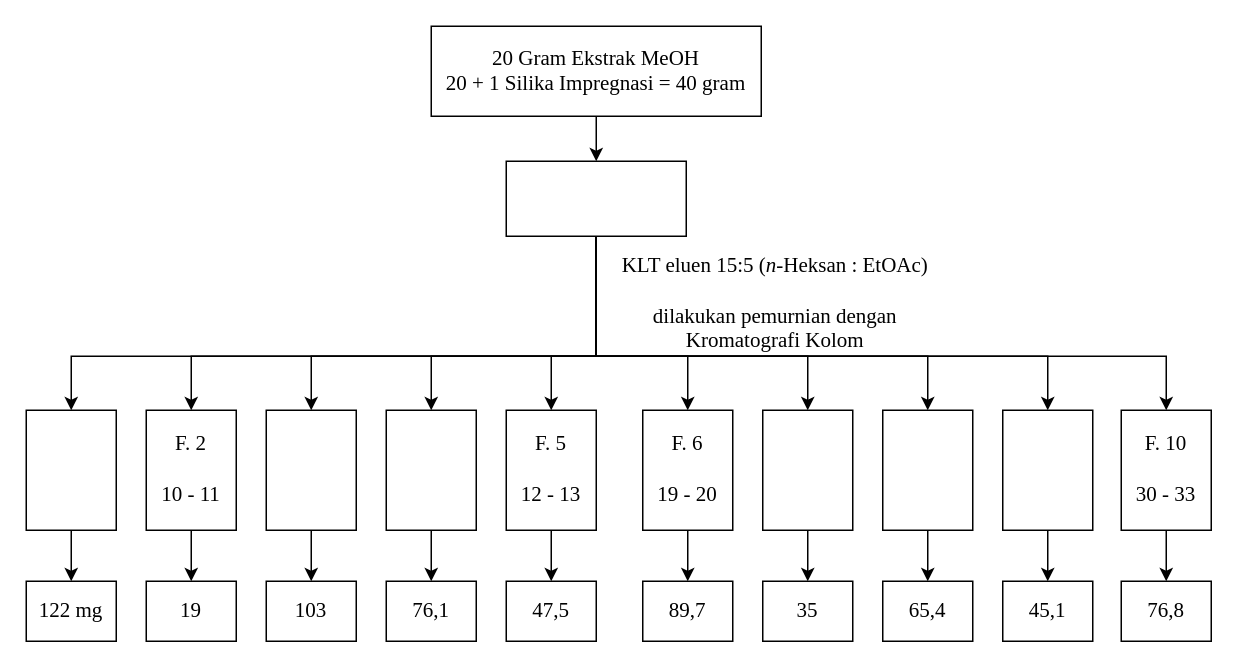
Some shapes in this 1238 by 668 pixel diagram are drawn without their labels. Here are the shapes that lost their labels. From the top down, the centre of each, then its label:
the point at 595,198: 33 Fraksi
the point at 70,469: F. 1 8 - 9
the point at 310,469: F. 3 12 - 13
the point at 430,469: F. 4 14 - 16
the point at 807,469: F. 7 21 - 22
the point at 927,469: F. 8 23 - 28
the point at 1047,469: F. 9 29 - 30
